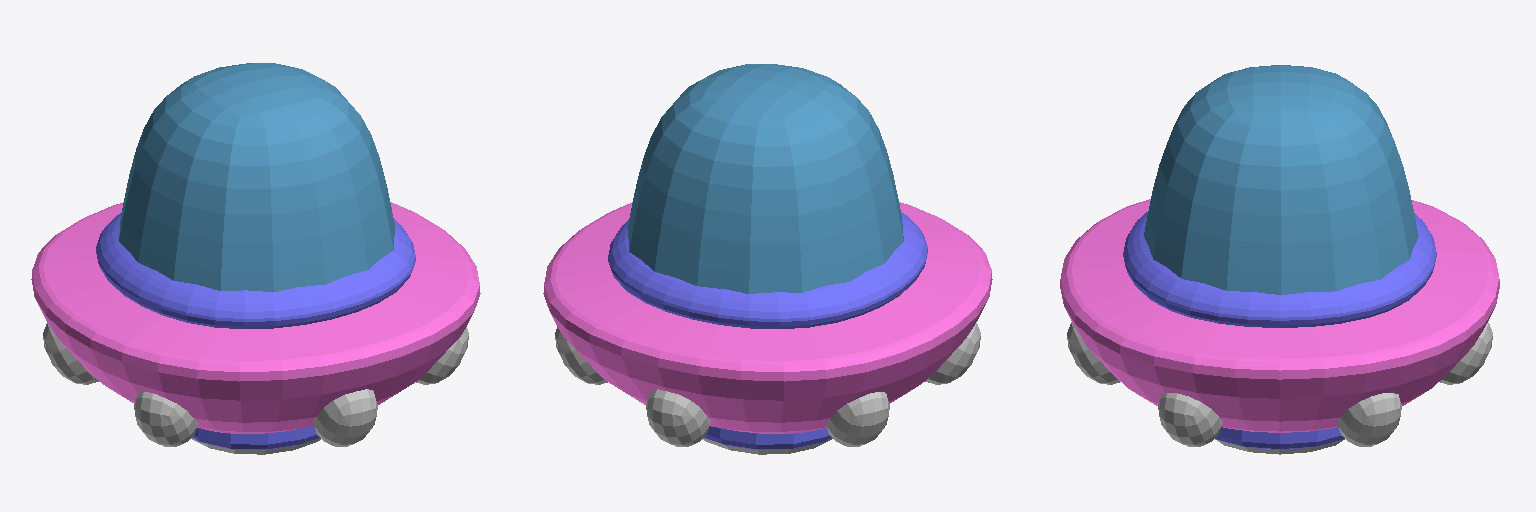
File: cat.obj
3 renders of one model, left to right at view 1: azimuth 30°, elevation 25°; view 2: azimuth 150°, elevation 25°; view 3: azimuth 270°, elevation 25°, orthographic.
Parts seen in each view (by area): view 1: Cube_Cube.009, Cube.009_Cube.002, Cube.027_Cube.040, lights_Cube.007, Cube.013_Cube.014; view 2: Cube_Cube.009, Cube.009_Cube.002, Cube.027_Cube.040, lights_Cube.007, Cube.013_Cube.014; view 3: Cube_Cube.009, Cube.009_Cube.002, Cube.027_Cube.040, lights_Cube.007, Cube.013_Cube.014.
Boxes of the visible parts, box(x1,y1,x2,y2) form: Cube_Cube.009: box(119, 63, 394, 291); Cube.009_Cube.002: box(31, 202, 480, 433); Cube.027_Cube.040: box(96, 213, 415, 328); lights_Cube.007: box(43, 322, 468, 446); Cube.013_Cube.014: box(191, 426, 320, 454); Cube_Cube.009: box(627, 64, 903, 293); Cube.009_Cube.002: box(543, 202, 992, 433); Cube.027_Cube.040: box(608, 212, 927, 328); lights_Cube.007: box(555, 322, 980, 446); Cube.013_Cube.014: box(703, 426, 832, 454); Cube_Cube.009: box(1144, 65, 1418, 294); Cube.009_Cube.002: box(1060, 199, 1499, 432); Cube.027_Cube.040: box(1123, 212, 1436, 327); lights_Cube.007: box(1067, 322, 1492, 446); Cube.013_Cube.014: box(1215, 427, 1344, 454).
Size of the model in its own units: 5.59 by 4.9 by 5.59.